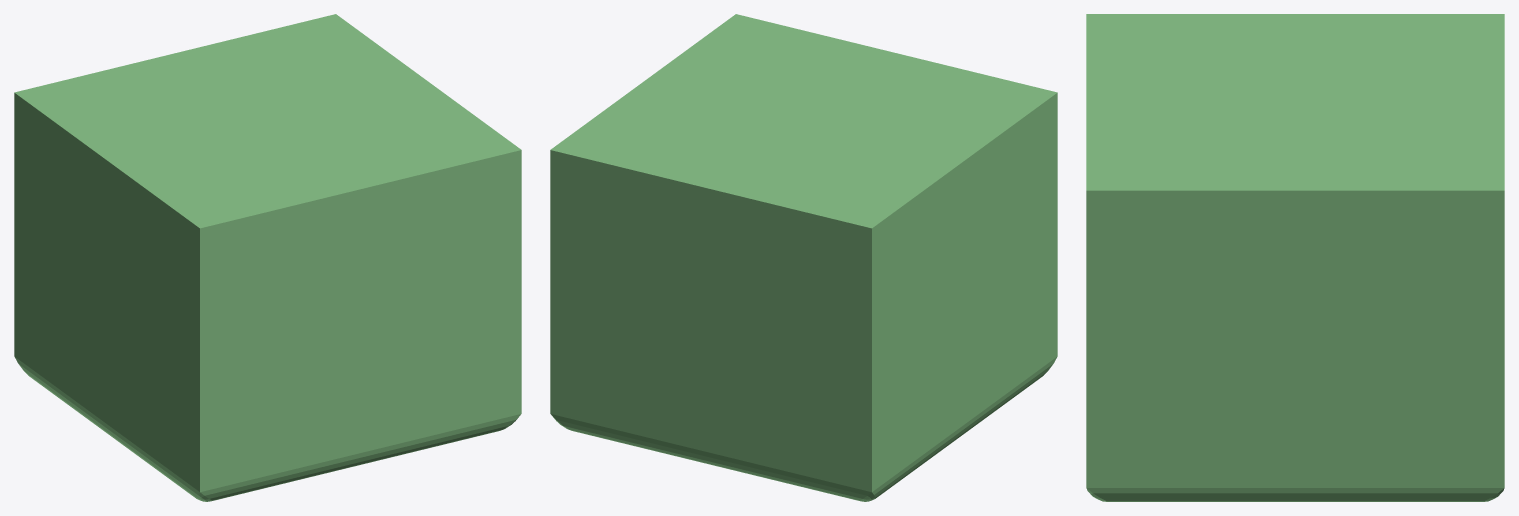
File: chao_grama2fbx.fbx
The picture shows the model from 3 angles, left to right: view 1: azimuth 30°, elevation 25°; view 2: azimuth 150°, elevation 25°; view 3: azimuth 270°, elevation 25°; orthographic projection. The views are drawn at different scales.
Parts seen in each view (by area): view 1: chao largo2.002; view 2: chao largo2.002; view 3: chao largo2.002.
Part boxes in pixels (x1,y1,x2,y2): chao largo2.002: (14, 14, 521, 501); chao largo2.002: (550, 14, 1057, 501); chao largo2.002: (1086, 14, 1504, 501).
Size of the model in its own units: 200 by 169 by 200.
